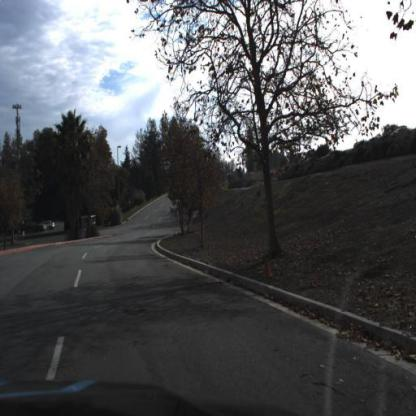car: (43, 220, 59, 233)
